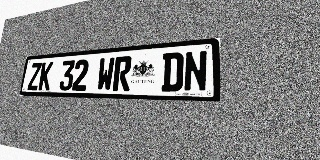2: (72, 59, 89, 91)
3: (59, 60, 75, 91)
D: (161, 52, 184, 92)
K: (38, 62, 53, 90)
N: (183, 50, 208, 92)
R: (112, 56, 132, 91)
W: (96, 57, 115, 91)
Z: (27, 62, 42, 90)
